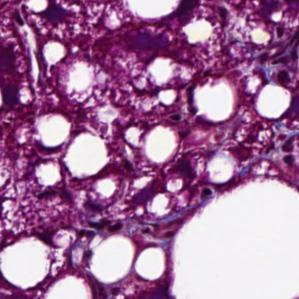inflammation: (254, 119, 299, 170), (69, 198, 125, 238)
